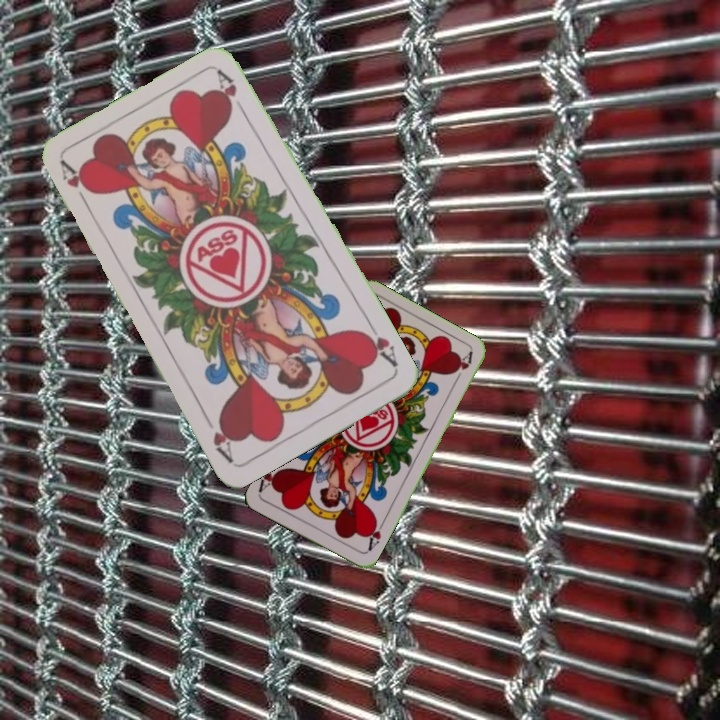HA: (356, 318, 401, 372), (57, 157, 96, 212), (362, 516, 387, 555)
